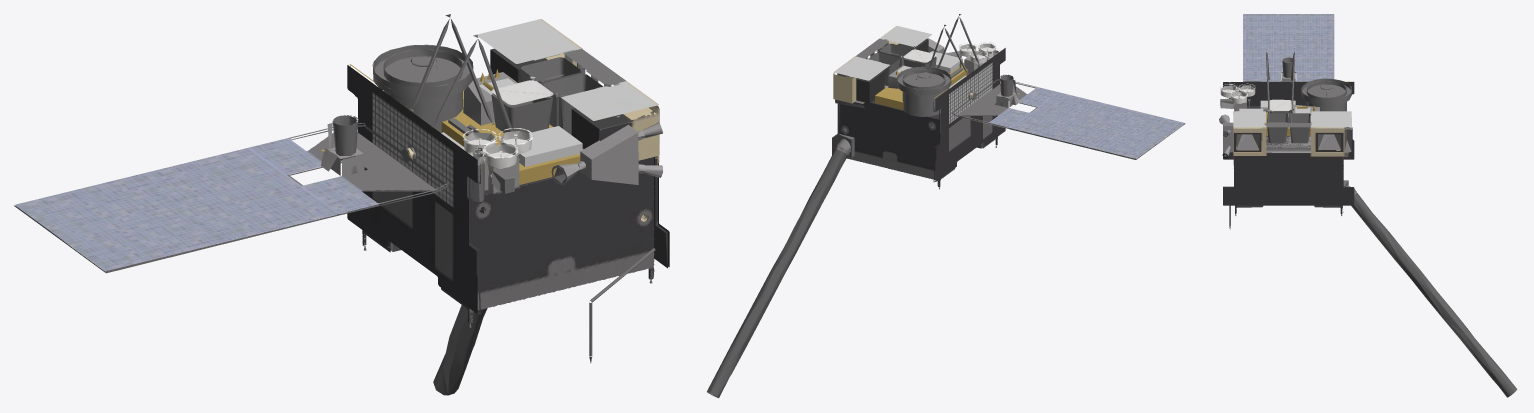
3 views of the same model, side by side, from view 1: azimuth 30°, elevation 25°; view 2: azimuth 150°, elevation 25°; view 3: azimuth 270°, elevation 25° (orthographic). The views are drawn at different scales.
Visible parts, largest first — view 1: Layer_0; view 2: Layer_0; view 3: Layer_0.
Part boxes in pixels (x1,y1,x2,y2): Layer_0: [14, 14, 669, 395]; Layer_0: [707, 14, 1185, 398]; Layer_0: [1219, 14, 1517, 397].
Size of the model in its own units: 0.1355 by 0.1223 by 0.1139.
Materials: 12 (2 with a texture image).
